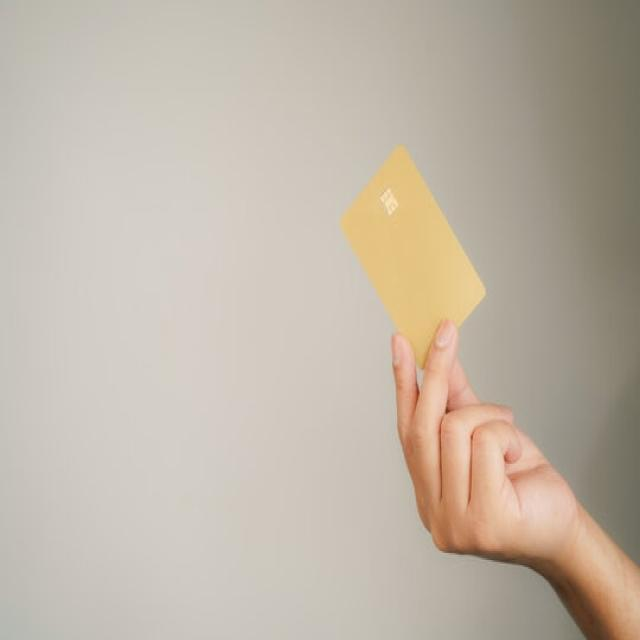payment_card: (339, 143, 487, 371)
